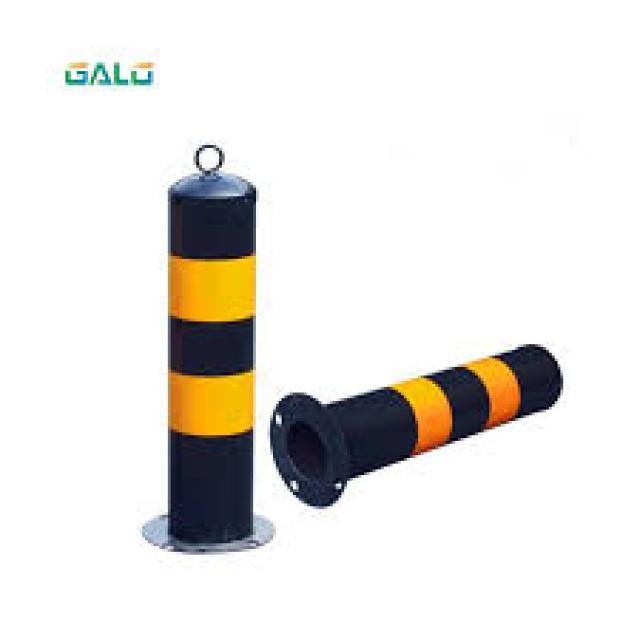bollard: (124, 132, 279, 558), (271, 342, 588, 515)
